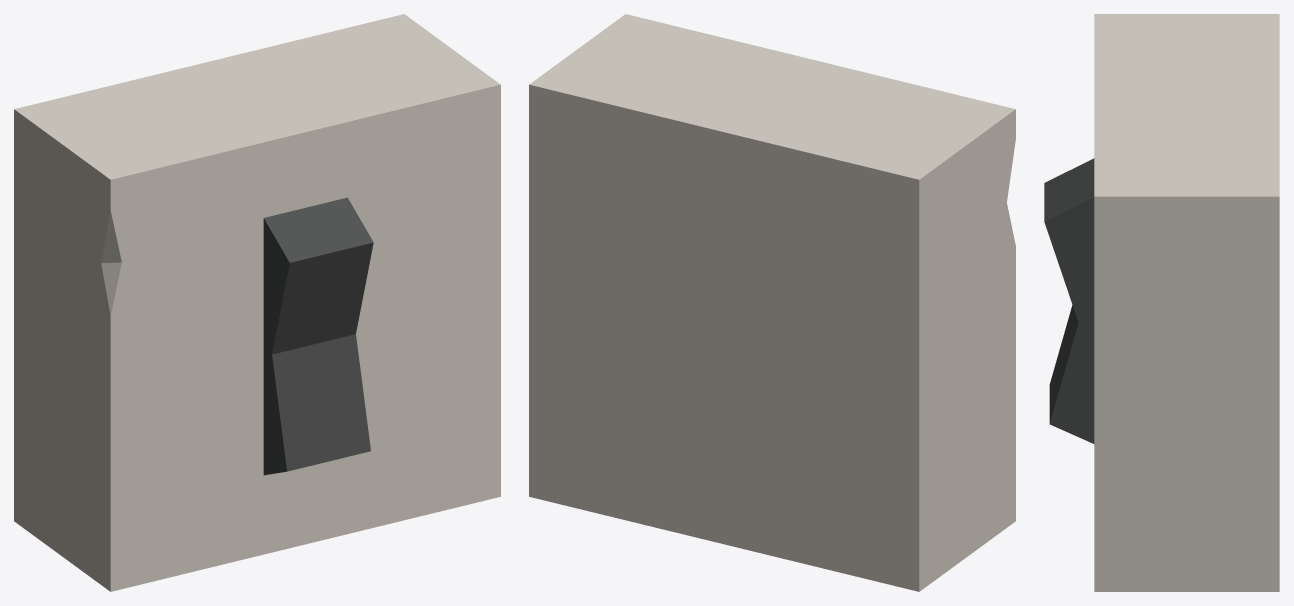
The model's file is Wh_Light_Switch.fbx.
3 renders of one model, left to right at view 1: azimuth 30°, elevation 25°; view 2: azimuth 150°, elevation 25°; view 3: azimuth 270°, elevation 25°, orthographic. The views are drawn at different scales.
Parts seen in each view (by area): view 1: Cube.1022; view 2: Cube.1022; view 3: Cube.1022.
Part boxes in pixels (<box>): Cube.1022: <box>14,14,500,591</box>; Cube.1022: <box>529,14,1015,591</box>; Cube.1022: <box>1044,14,1279,591</box>.
Bounding box in the file's own units: 12.53 × 12.65 × 6.82.
